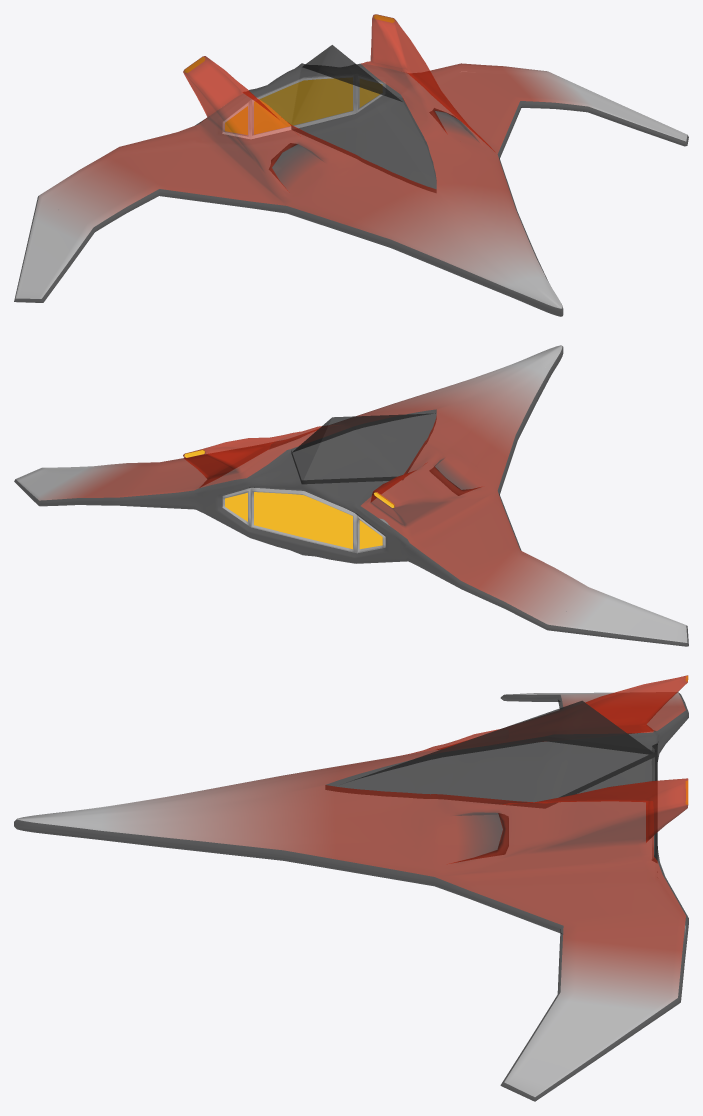
File: Spaceship.glb
The picture shows the model from 3 angles, top to bottom: view 1: azimuth 30°, elevation 25°; view 2: azimuth 150°, elevation 25°; view 3: azimuth 270°, elevation 25°; orthographic projection. The views are drawn at different scales.
Parts seen in each view (by area): view 1: Spaceship PostMod; view 2: Spaceship PostMod; view 3: Spaceship PostMod.
Boxes of the visible parts, left/top/right/bottom form: Spaceship PostMod: left=14, top=14, right=688, bottom=316; Spaceship PostMod: left=14, top=345, right=688, bottom=646; Spaceship PostMod: left=14, top=675, right=688, bottom=1101.
Size of the model in its own units: 2.91 by 0.6663 by 2.04.
2 materials, 1 textured.
